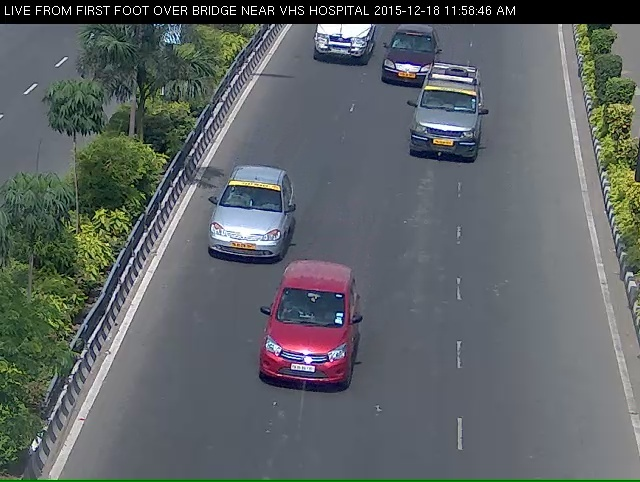Car: (256, 291, 356, 432), (200, 184, 276, 279), (416, 79, 482, 178), (303, 19, 371, 86), (381, 27, 427, 101)
